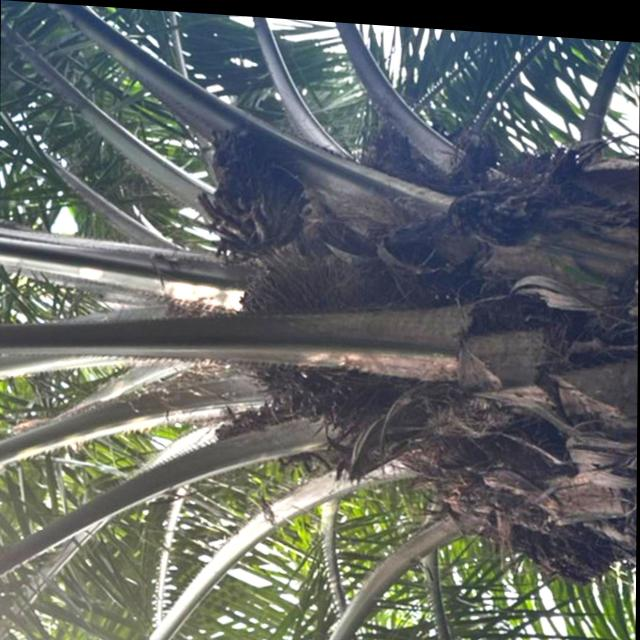almost: (230, 252, 385, 425)
